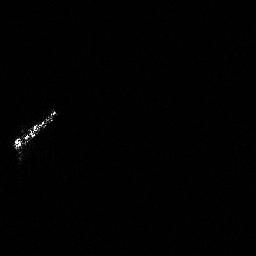ship: (13, 109, 56, 148)
